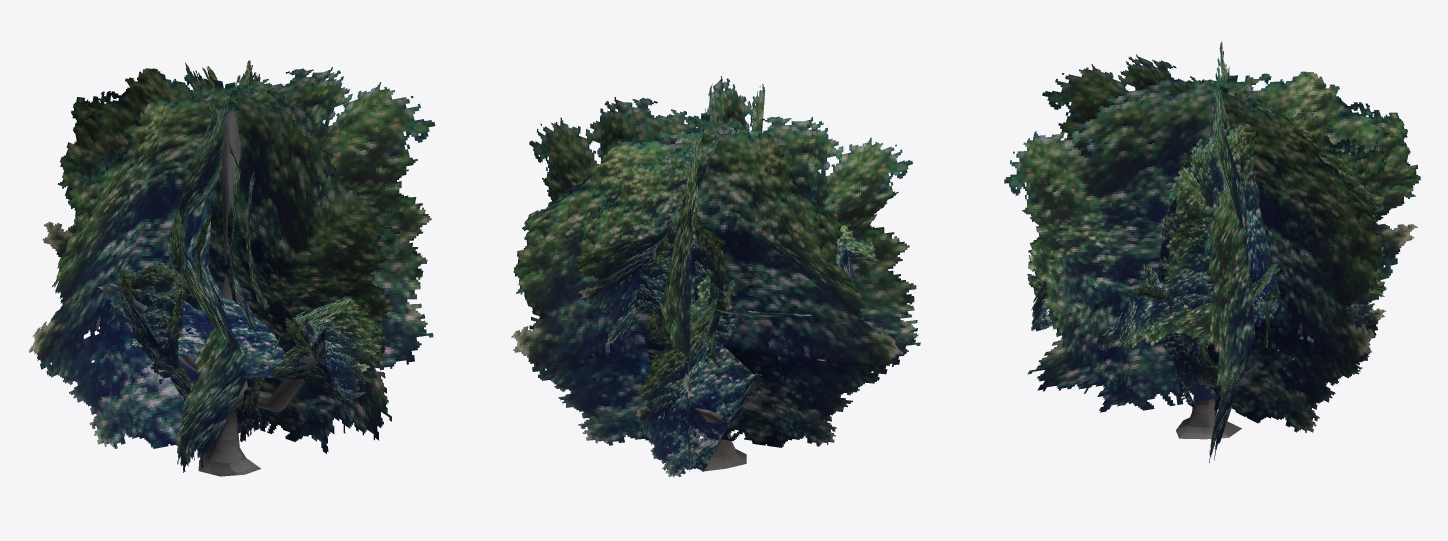
File: ForestBush.glb
The picture shows the model from 3 angles, left to right: view 1: azimuth 30°, elevation 25°; view 2: azimuth 150°, elevation 25°; view 3: azimuth 270°, elevation 25°; orthographic projection. The views are drawn at different scales.
Parts seen in each view (by area): view 1: GolfTree; view 2: GolfTree; view 3: GolfTree.
Boxes of the visible parts, x1,y1,x2,y2 form: GolfTree: (28, 60, 435, 476); GolfTree: (511, 76, 920, 477); GolfTree: (1004, 41, 1420, 462).
Bounding box in the file's own units: 2.22 × 1.82 × 2.05.
Materials: 1 (1 with a texture image).
